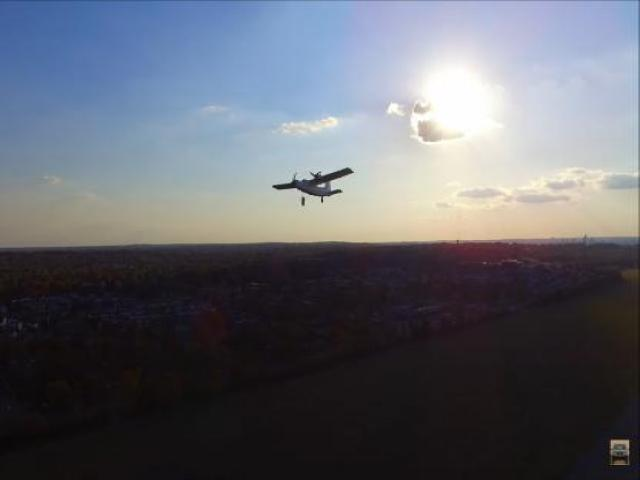uav: (272, 163, 356, 200)
